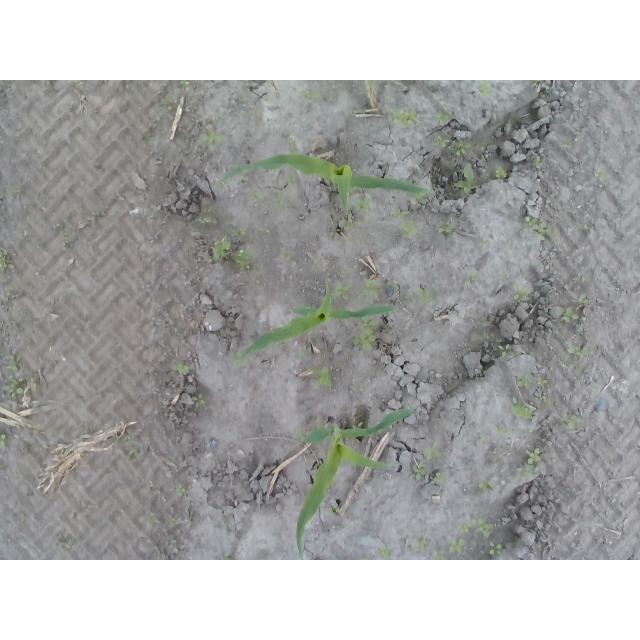Weeds: (432, 521, 505, 560), (510, 370, 553, 420), (210, 228, 251, 269), (551, 294, 588, 335), (413, 447, 447, 482), (351, 316, 382, 353), (516, 447, 545, 482), (434, 135, 471, 158), (390, 209, 419, 236), (307, 366, 337, 391), (452, 163, 477, 192), (525, 215, 552, 241), (249, 191, 287, 208), (335, 270, 353, 302), (361, 278, 383, 303), (0, 377, 24, 399), (198, 128, 227, 146), (566, 344, 594, 360), (411, 286, 433, 306), (1, 246, 16, 275), (392, 110, 417, 127), (562, 413, 585, 430), (229, 350, 248, 370), (406, 535, 428, 552), (200, 206, 218, 226), (512, 286, 532, 304), (436, 219, 456, 235), (301, 87, 321, 103), (158, 95, 178, 110), (478, 320, 493, 340), (6, 353, 21, 372), (175, 360, 190, 377), (191, 394, 206, 411), (478, 478, 499, 490), (354, 197, 370, 212), (493, 163, 507, 180), (498, 343, 515, 357), (496, 424, 513, 438), (435, 111, 451, 125), (147, 511, 161, 525), (315, 414, 326, 431), (342, 210, 352, 228), (410, 193, 426, 204), (479, 80, 489, 97), (595, 167, 608, 180), (380, 548, 393, 561), (122, 430, 135, 442), (256, 226, 272, 235), (31, 441, 49, 449), (279, 246, 290, 259), (128, 447, 139, 460), (175, 484, 185, 498), (0, 432, 8, 449), (532, 159, 544, 170), (166, 518, 178, 529), (297, 428, 308, 440), (465, 271, 479, 280), (49, 224, 63, 232), (63, 232, 74, 242), (73, 80, 86, 88), (295, 349, 305, 359), (287, 176, 298, 185), (179, 81, 193, 87), (477, 435, 487, 443), (330, 505, 338, 513), (479, 142, 485, 150), (531, 81, 541, 84)
